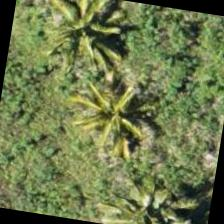Kelapa_Sawit: (58, 76, 161, 178), (29, 0, 133, 95), (105, 163, 205, 223)
